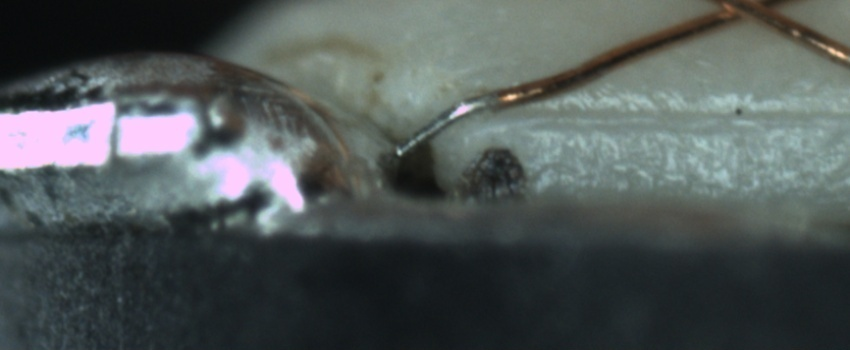CL: (703, 0, 793, 28)
DL: (529, 84, 849, 141)
TS: (396, 92, 499, 160)
TTCW: (392, 73, 562, 156)
